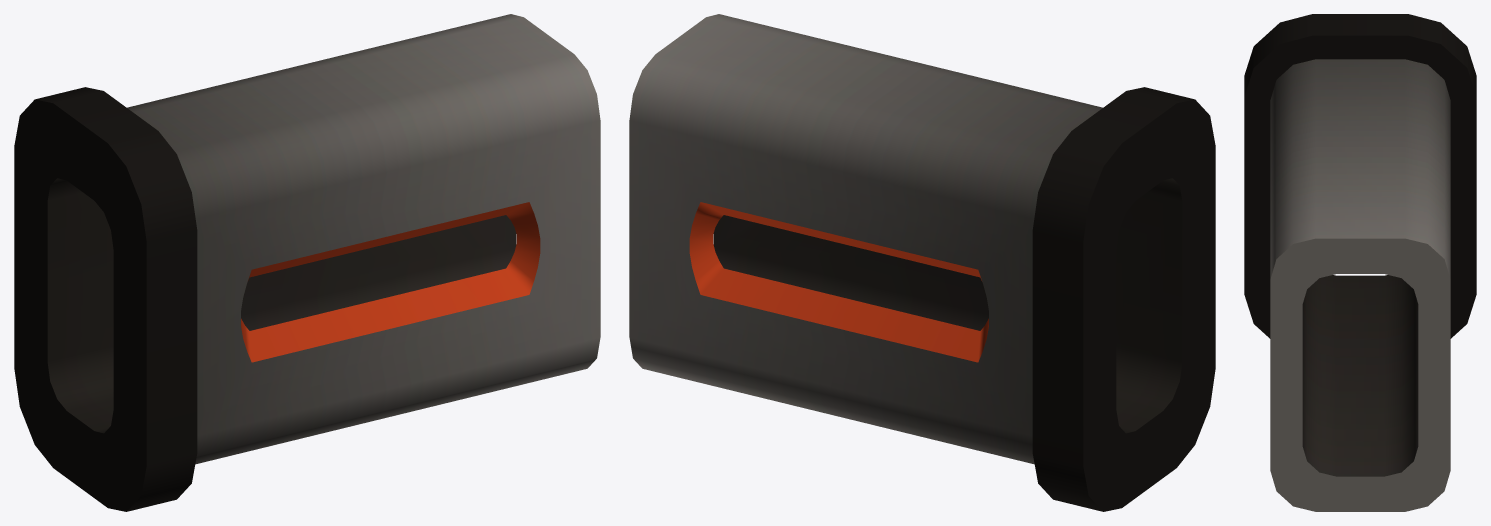
File: Muzzle_Caliber2_03.fbx
The picture shows the model from 3 angles, left to right: view 1: azimuth 30°, elevation 25°; view 2: azimuth 150°, elevation 25°; view 3: azimuth 270°, elevation 25°; orthographic projection. The views are drawn at different scales.
Visible parts, largest first — view 1: Muzzle_Caliber2_03; view 2: Muzzle_Caliber2_03; view 3: Muzzle_Caliber2_03.
Part boxes in pixels (x1=…): Muzzle_Caliber2_03: x1=14, y1=14, x2=600, y2=511; Muzzle_Caliber2_03: x1=629, y1=14, x2=1215, y2=511; Muzzle_Caliber2_03: x1=1244, y1=14, x2=1476, y2=511.
Bounding box in the file's own units: 10.89 × 8.1 × 5.32.
